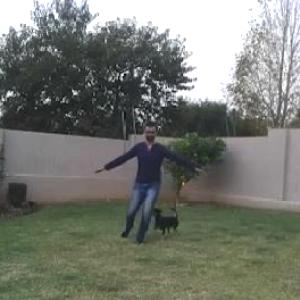land: (106, 127, 209, 249)
